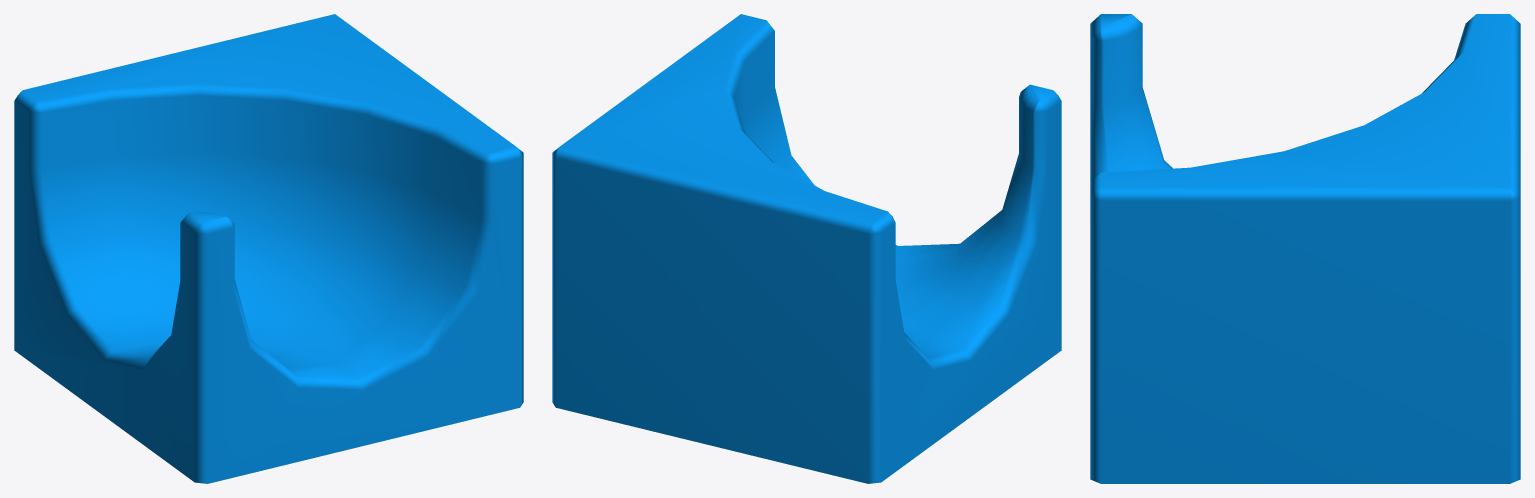
File: Track Curve 1x1.fbx
3 views of the same model, side by side, from view 1: azimuth 30°, elevation 25°; view 2: azimuth 150°, elevation 25°; view 3: azimuth 270°, elevation 25° (orthographic). The views are drawn at different scales.
Parts seen in each view (by area): view 1: Track Curve 1x1; view 2: Track Curve 1x1; view 3: Track Curve 1x1.
Part boxes in pixels (x1=…): Track Curve 1x1: x1=14, y1=14, x2=523, y2=483; Track Curve 1x1: x1=552, y1=14, x2=1061, y2=483; Track Curve 1x1: x1=1090, y1=14, x2=1520, y2=483.
Bounding box in the file's own units: 100 × 75 × 100.
